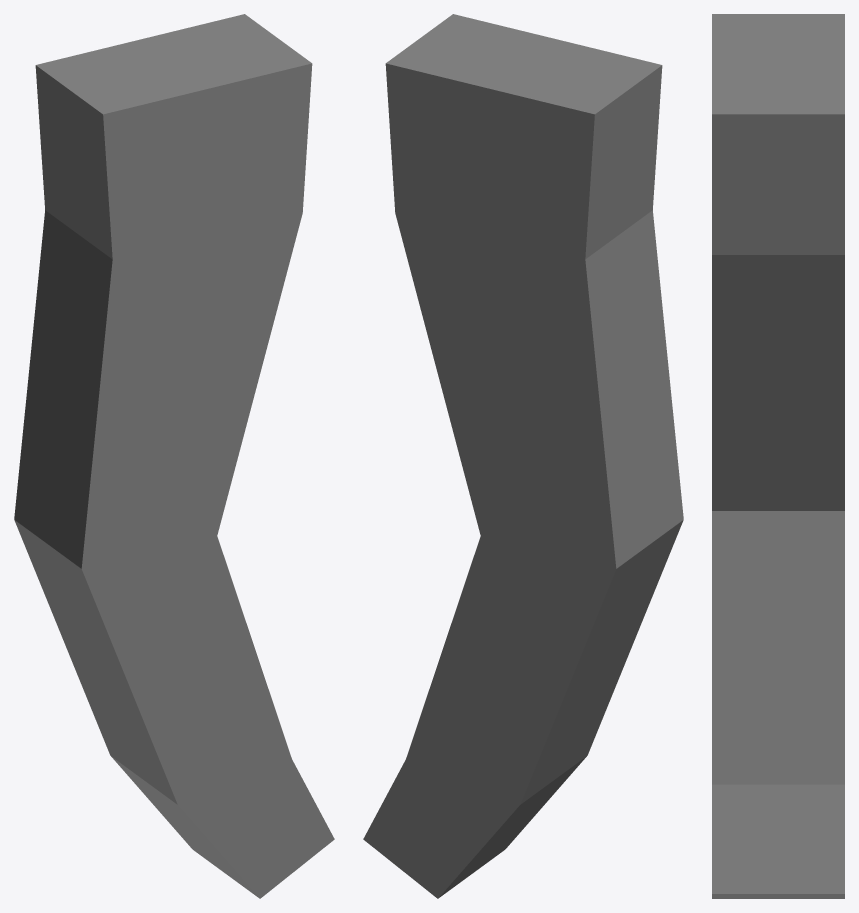
File: SMG2_04_3.fbx
3 renders of one model, left to right at view 1: azimuth 30°, elevation 25°; view 2: azimuth 150°, elevation 25°; view 3: azimuth 270°, elevation 25°, orthographic.
Visible parts, largest first — view 1: SMG2_04_3; view 2: SMG2_04_3; view 3: SMG2_04_3.
Part boxes in pixels (box(x1,y1,x2,y2)): SMG2_04_3: box(14, 14, 334, 898); SMG2_04_3: box(363, 14, 683, 898); SMG2_04_3: box(712, 14, 844, 898).
Bounding box in the file's own units: 0.0106 × 0.0328 × 0.00487.
